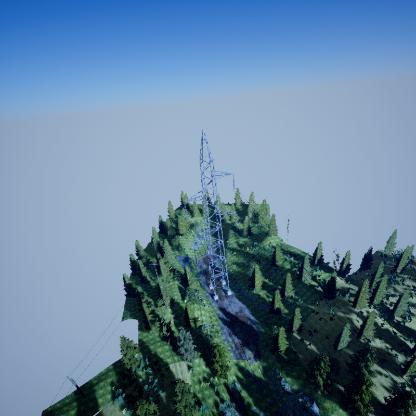tower: (183, 128, 238, 303)
